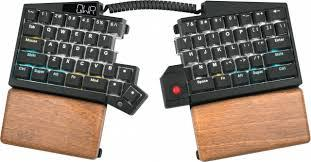keyboard: (7, 0, 148, 115), (162, 0, 303, 107)
